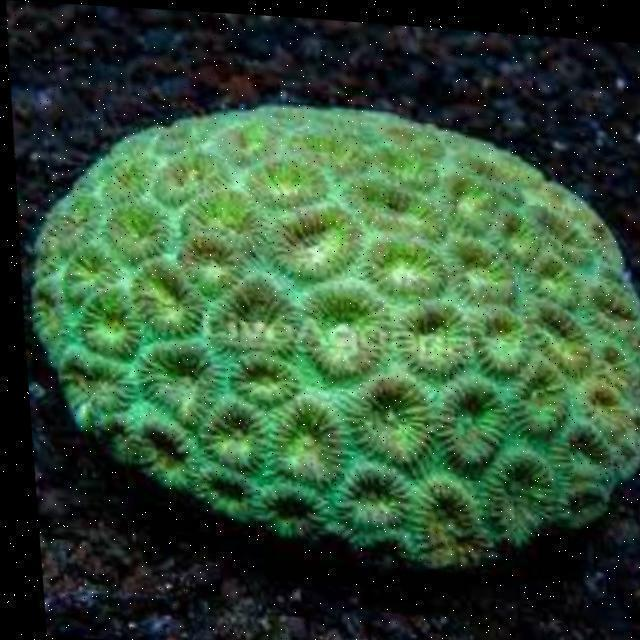Healthy Coral: (59, 103, 639, 553)
